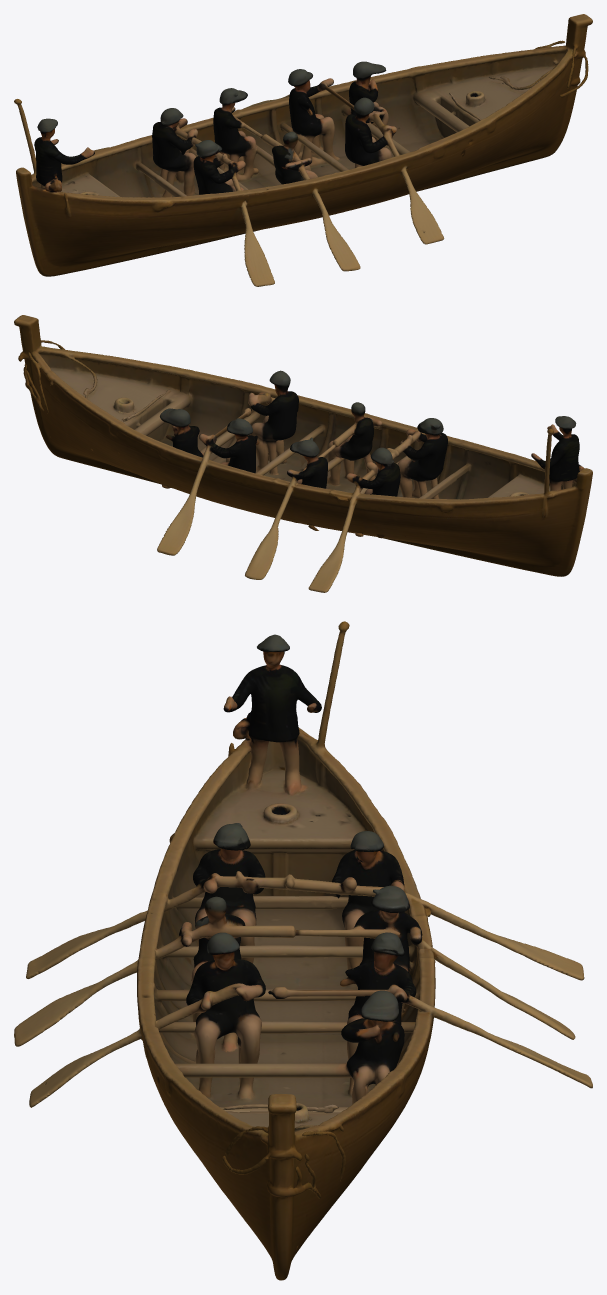
File: rowboat-source.glb
3 views of the same model, one above another, from view 1: azimuth 30°, elevation 25°; view 2: azimuth 150°, elevation 25°; view 3: azimuth 270°, elevation 25° (orthographic). The views are drawn at different scales.
Parts seen in each view (by area): view 1: tripo_node_aea0d880-a284-4d26-a2a5-9c06d955dc79; view 2: tripo_node_aea0d880-a284-4d26-a2a5-9c06d955dc79; view 3: tripo_node_aea0d880-a284-4d26-a2a5-9c06d955dc79.
Part boxes in pixels (x1,y1,x2,y2): tripo_node_aea0d880-a284-4d26-a2a5-9c06d955dc79: [14, 14, 592, 286]; tripo_node_aea0d880-a284-4d26-a2a5-9c06d955dc79: [14, 315, 592, 592]; tripo_node_aea0d880-a284-4d26-a2a5-9c06d955dc79: [14, 621, 592, 1280].
Size of the model in its own units: 1 by 0.2834 by 0.5541.
1 material, 1 textured.
